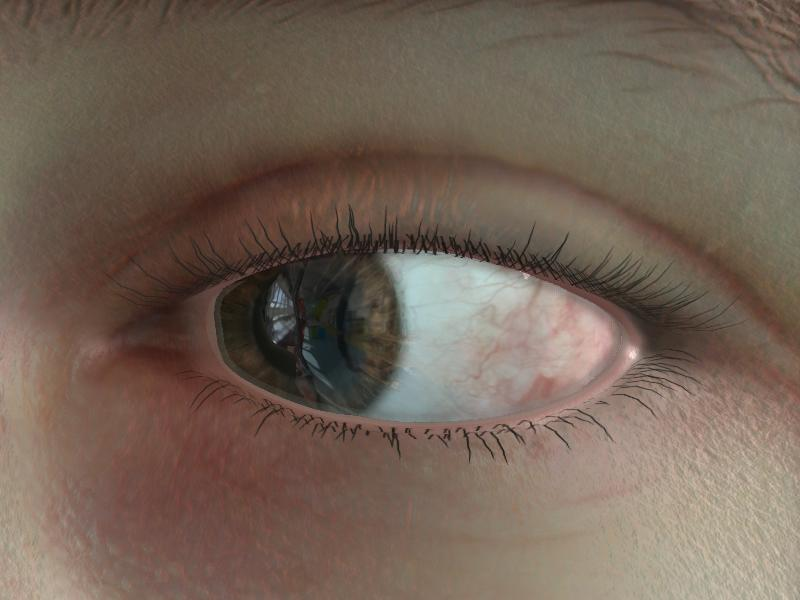eye: (214, 252, 406, 419)
